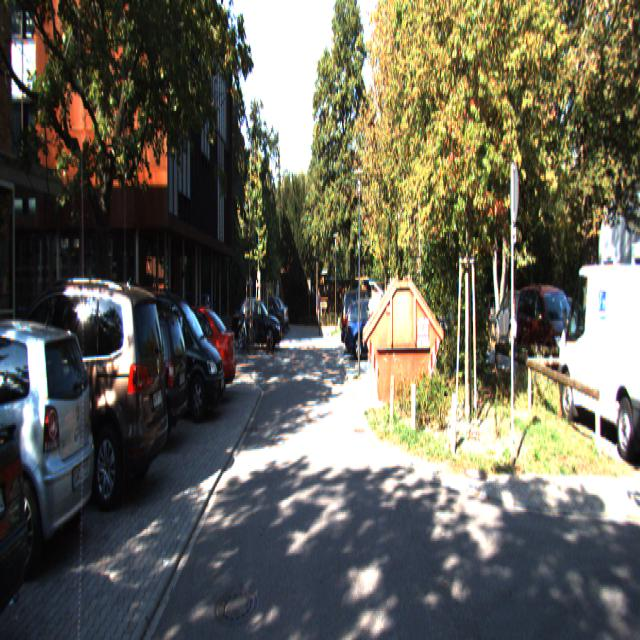Car: (0, 273, 173, 512), (0, 313, 103, 583), (49, 299, 191, 455), (553, 254, 639, 470), (121, 284, 227, 424), (0, 326, 41, 638), (141, 303, 238, 405), (514, 276, 594, 384), (344, 298, 399, 362), (233, 297, 283, 350)
